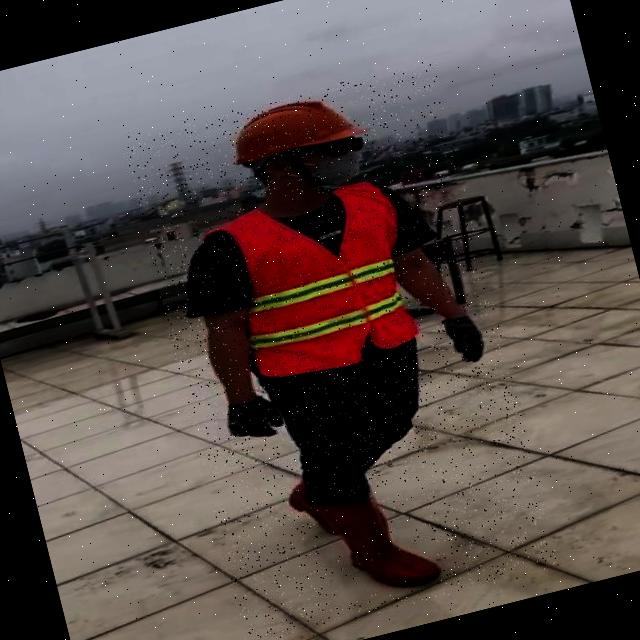boots: (312, 477, 442, 605)
helmet: (218, 82, 368, 174)
vest: (214, 176, 428, 386)
